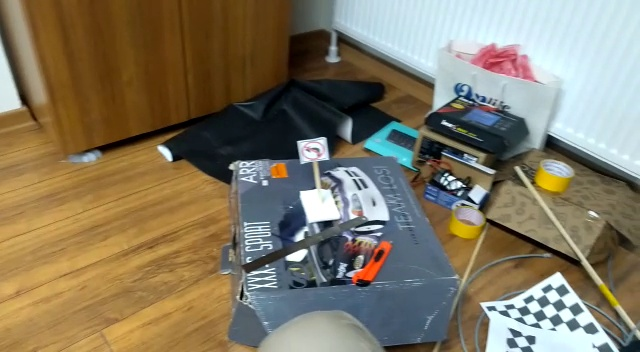sola_donulmez: (299, 138, 327, 162)
